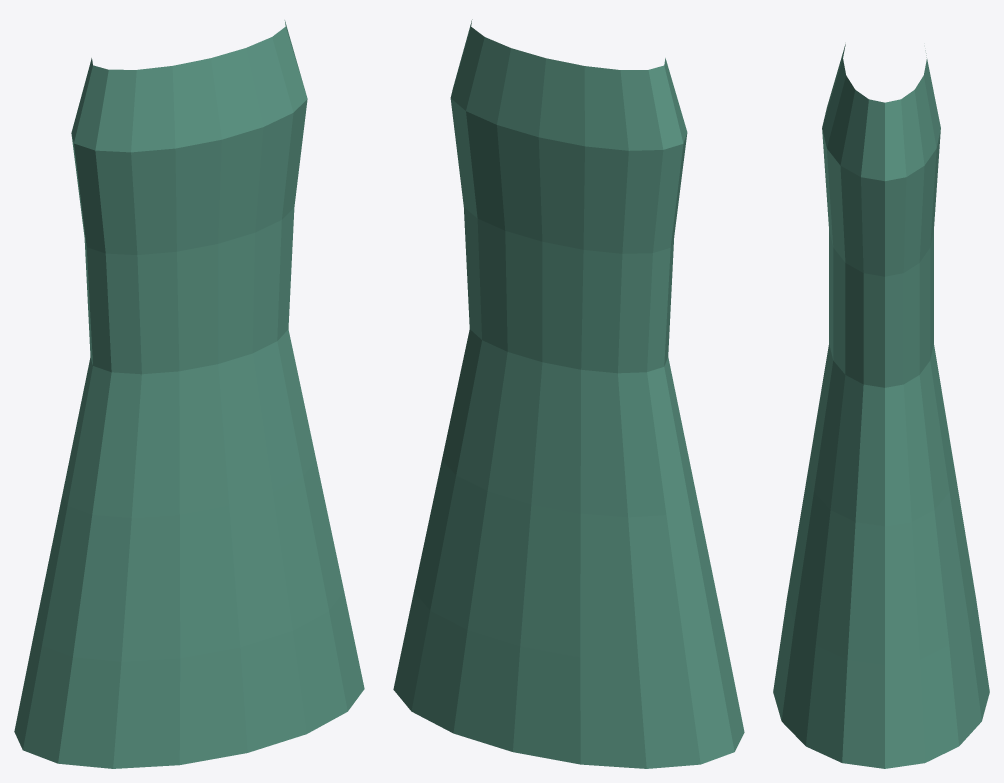
File: slip_dress.glb
3 views of the same model, side by side, from view 1: azimuth 30°, elevation 25°; view 2: azimuth 150°, elevation 25°; view 3: azimuth 270°, elevation 25° (orthographic). The views are drawn at different scales.
Visible parts, largest first — view 1: Emerald Slip Dress; view 2: Emerald Slip Dress; view 3: Emerald Slip Dress.
Boxes of the visible parts, x1,y1,x2,y2 form: Emerald Slip Dress: (14,20,364,768); Emerald Slip Dress: (393,19,744,768); Emerald Slip Dress: (773,44,989,768).
Size of the model in its own units: 0.52 by 1 by 0.31.
